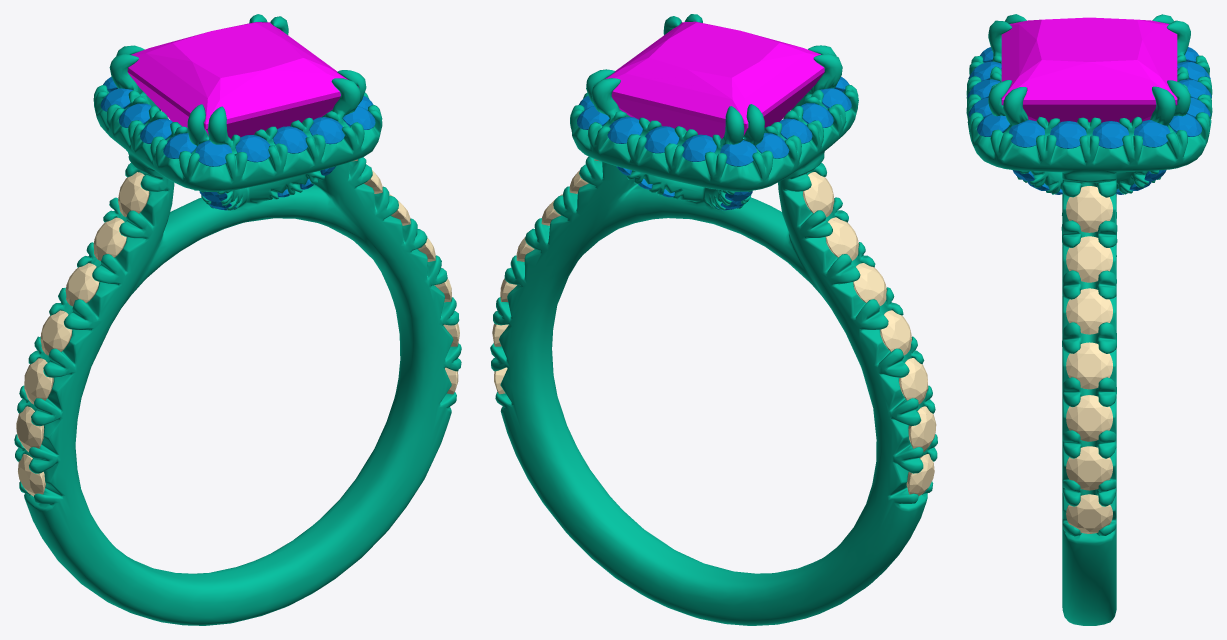
File: BE1D4612_PR_200ct_RENDER.glb
3 renders of one model, left to right at view 1: azimuth 30°, elevation 25°; view 2: azimuth 150°, elevation 25°; view 3: azimuth 270°, elevation 25°, orthographic.
Parts seen in each view (by area): view 1: Metal 01, CS_Diamond_Princess, Diamond_Round_Gem_SH.002, Diamond_Round_Gem_SH.001, Diamond_Round_Gem_SH.003, Diamond_Round_Gem_SH, Diamond_Round_Gem_SH.004, Diamond_Round_Gem_SH.005, Diamond_Round_Gem_SH.006, Diamond_Round_Gem_HD.027, Diamond_Round_Gem_HD.017, Diamond_Round_Gem_HD.029 (+1 smaller); view 2: Metal 01, CS_Diamond_Princess, Diamond_Round_Gem_SH.002, Diamond_Round_Gem_SH.001, Diamond_Round_Gem_SH.003, Diamond_Round_Gem_SH, Diamond_Round_Gem_SH.004, Diamond_Round_Gem_SH.005, Diamond_Round_Gem_SH.006, Diamond_Round_Gem_HD.024, Diamond_Round_Gem_HD.013, Diamond_Round_Gem_HD.026 (+1 smaller); view 3: Metal 01, CS_Diamond_Princess, Diamond_Round_Gem_SH.010, Diamond_Round_Gem_SH.011, Diamond_Round_Gem_SH.007, Diamond_Round_Gem_SH.009, Diamond_Round_Gem_SH.008, Diamond_Round_Gem_SH.012, Diamond_Round_Gem_SH.013, Diamond_Round_Gem_HD.022, Diamond_Round_Gem_HD.023, Diamond_Round_Gem_HD.014 (+6 smaller).
Part boxes in pixels (bbox=[...]): Metal 01: bbox=[14, 14, 461, 625]; CS_Diamond_Princess: bbox=[127, 22, 358, 138]; Diamond_Round_Gem_SH.002: bbox=[65, 263, 99, 306]; Diamond_Round_Gem_SH.001: bbox=[93, 217, 126, 260]; Diamond_Round_Gem_SH.003: bbox=[40, 310, 72, 355]; Diamond_Round_Gem_SH: bbox=[118, 172, 149, 217]; Diamond_Round_Gem_SH.004: bbox=[24, 358, 53, 404]; Diamond_Round_Gem_SH.005: bbox=[16, 406, 43, 451]; Diamond_Round_Gem_SH.006: bbox=[18, 454, 45, 496]; Diamond_Round_Gem_HD.027: bbox=[235, 135, 270, 162]; Diamond_Round_Gem_HD.017: bbox=[195, 140, 231, 166]; Diamond_Round_Gem_HD.029: bbox=[273, 126, 307, 153]; Metal 01: bbox=[490, 14, 937, 625]; CS_Diamond_Princess: bbox=[605, 21, 824, 138]; Diamond_Round_Gem_SH.002: bbox=[853, 263, 886, 305]; Diamond_Round_Gem_SH.001: bbox=[825, 217, 858, 260]; Diamond_Round_Gem_SH.003: bbox=[880, 310, 911, 355]; Diamond_Round_Gem_SH: bbox=[803, 172, 834, 217]; Diamond_Round_Gem_SH.004: bbox=[899, 358, 928, 403]; Diamond_Round_Gem_SH.005: bbox=[908, 406, 936, 451]; Diamond_Round_Gem_SH.006: bbox=[906, 454, 934, 496]; Diamond_Round_Gem_HD.024: bbox=[682, 134, 716, 161]; Diamond_Round_Gem_HD.013: bbox=[720, 140, 756, 166]; Diamond_Round_Gem_HD.026: bbox=[644, 126, 679, 153]; Metal 01: bbox=[966, 14, 1212, 625]; CS_Diamond_Princess: bbox=[1001, 17, 1177, 122]; Diamond_Round_Gem_SH.010: bbox=[1066, 342, 1112, 389]; Diamond_Round_Gem_SH.011: bbox=[1066, 395, 1112, 441]; Diamond_Round_Gem_SH.007: bbox=[1066, 186, 1112, 232]; Diamond_Round_Gem_SH.009: bbox=[1066, 288, 1112, 334]; Diamond_Round_Gem_SH.008: bbox=[1066, 236, 1112, 282]; Diamond_Round_Gem_SH.012: bbox=[1066, 446, 1112, 490]; Diamond_Round_Gem_SH.013: bbox=[1066, 494, 1112, 533]; Diamond_Round_Gem_HD.022: bbox=[1092, 121, 1128, 148]; Diamond_Round_Gem_HD.023: bbox=[1050, 121, 1086, 148]; Diamond_Round_Gem_HD.014: bbox=[1134, 120, 1170, 147].
Size of the model in its own units: 21.21 by 26.51 by 10.5.
